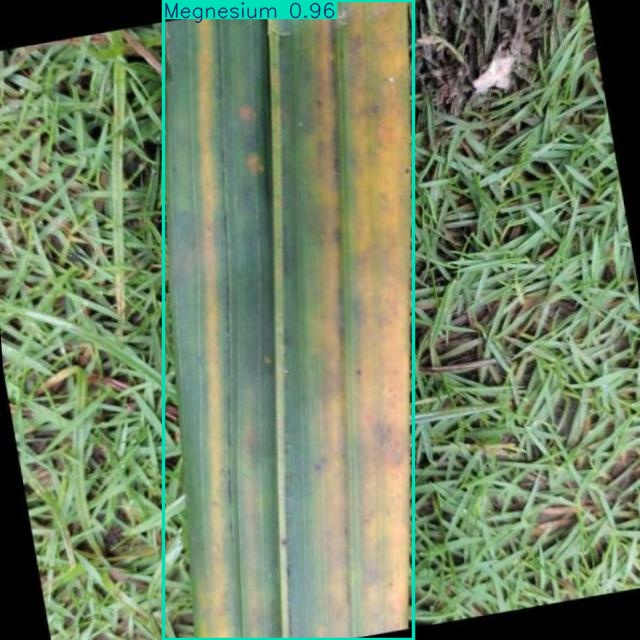Megnesium: (164, 0, 413, 640)
